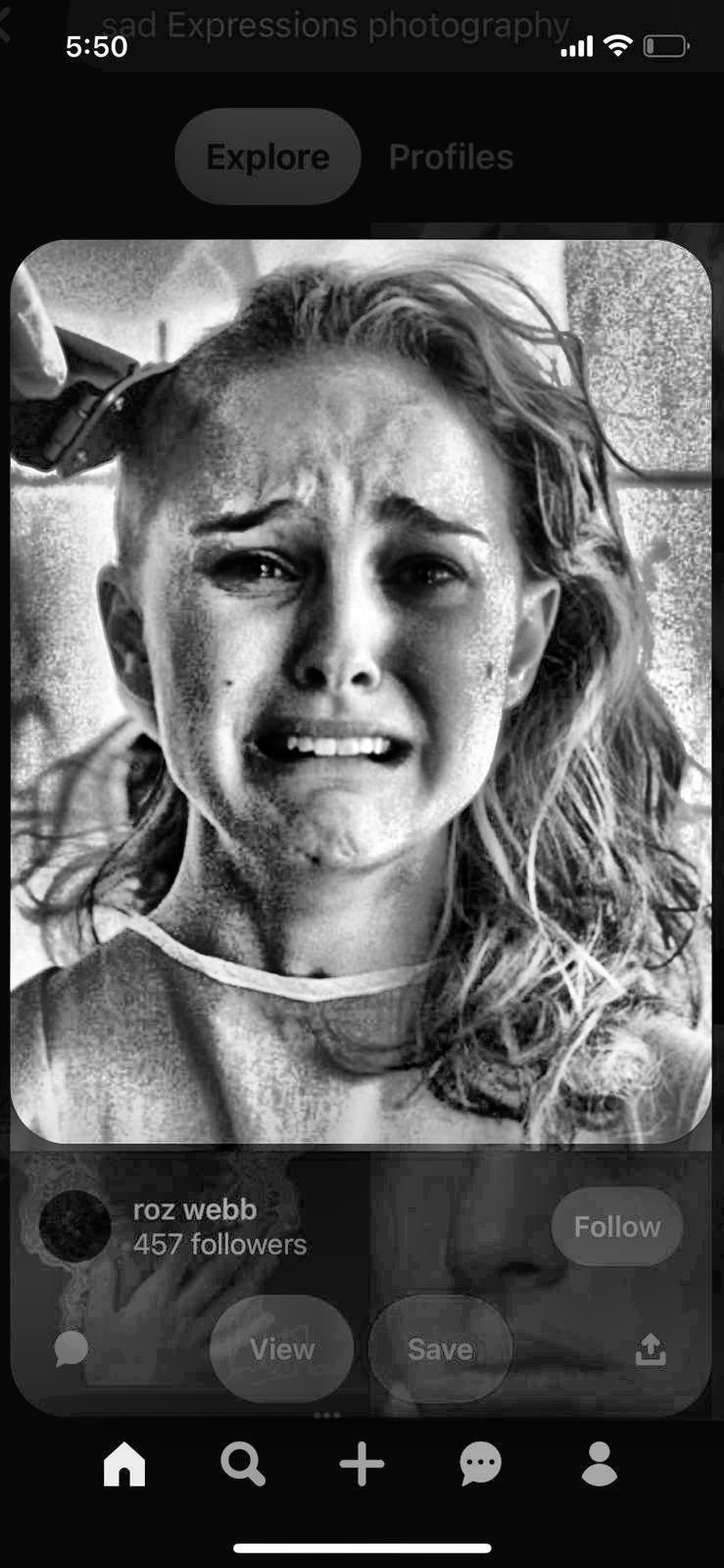sad: (109, 285, 655, 882)
